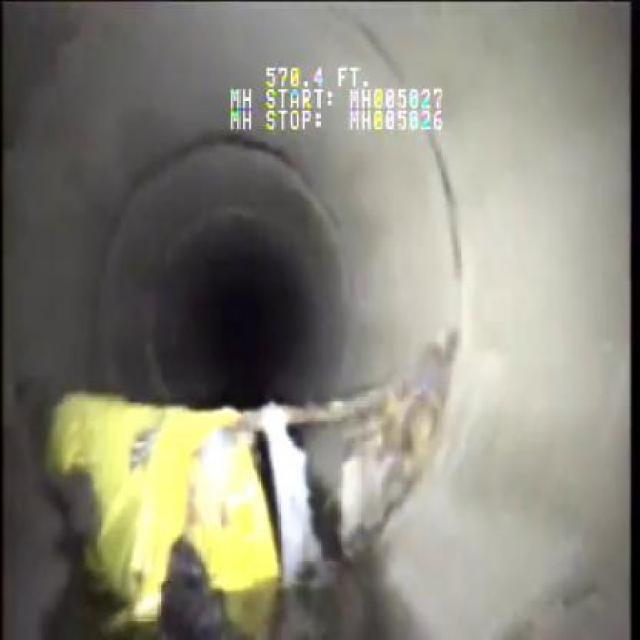Obstacle: (41, 357, 417, 638)
